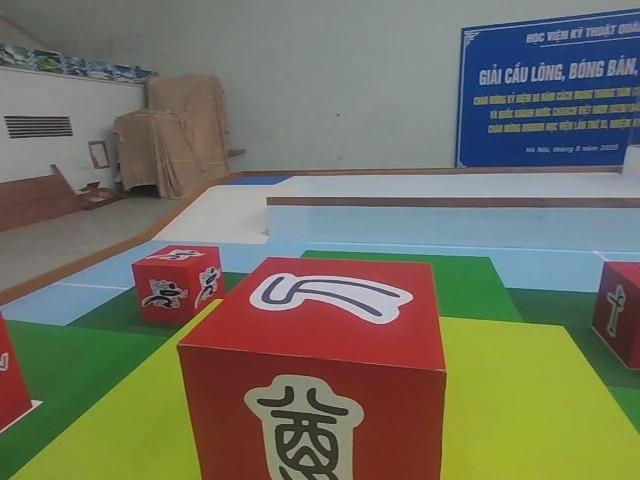R1: (134, 243, 225, 327)
R2 Fake: (173, 254, 448, 480)
R2 Real: (589, 257, 640, 371)
